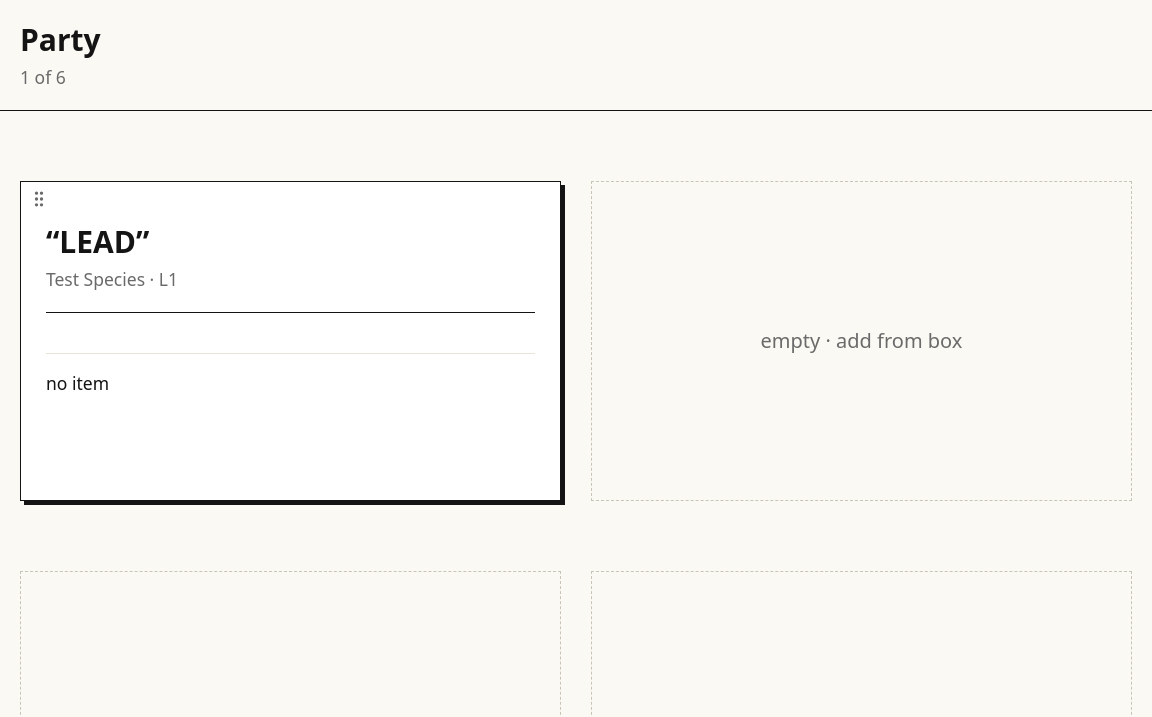
Test: PartyScreen › adding from the box › moves the picked mon into the party, closes the dialog and drops a tile
The image size is (1152, 717).
Click the 1st button "empty · add from box" at (862, 341), box [591,181,1132,501]
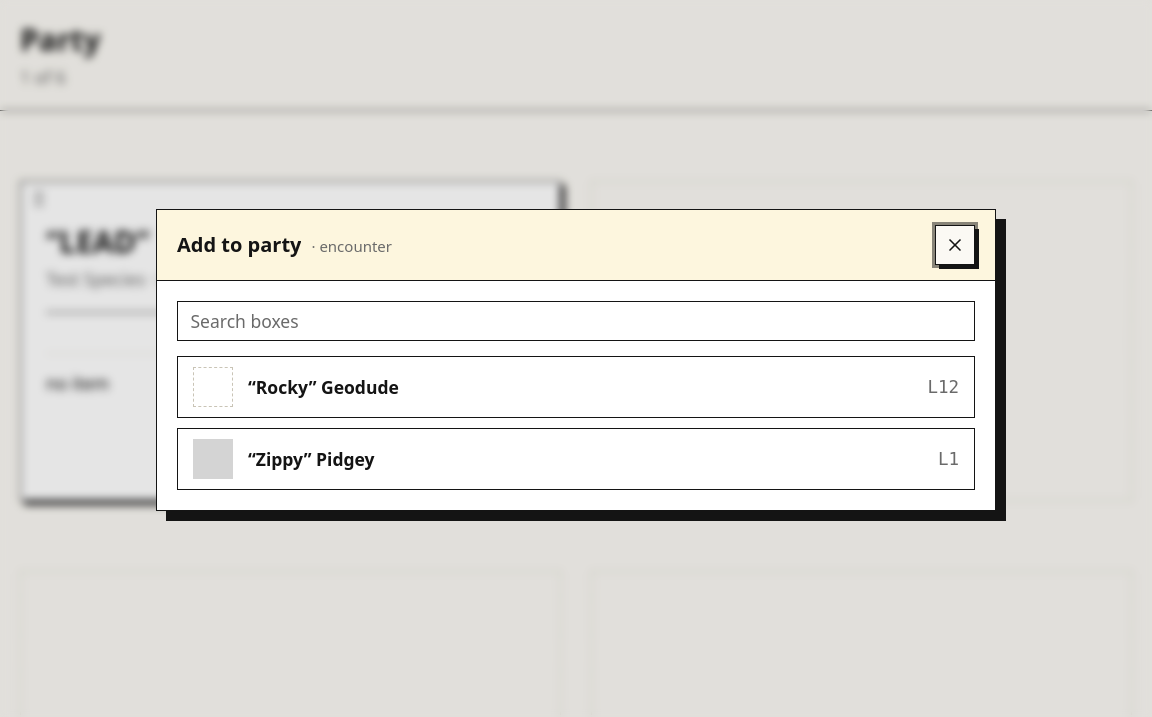
Click the button with aria-label "Add “Rocky” to the party" at (213, 387), box [177,356,975,418]
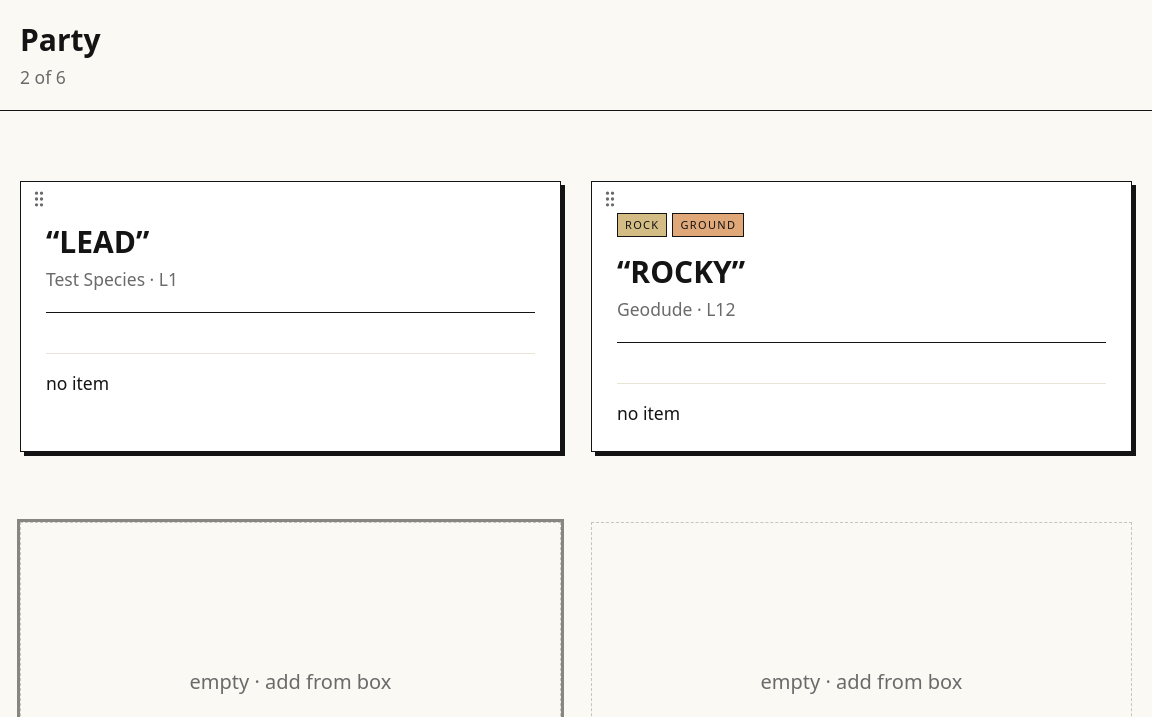
expect the dialog is gone: met
expect the number of buttons "empty · add from box" is 4: met
expect the text "2 of 6" is shown: met, box [20,65,66,89]
